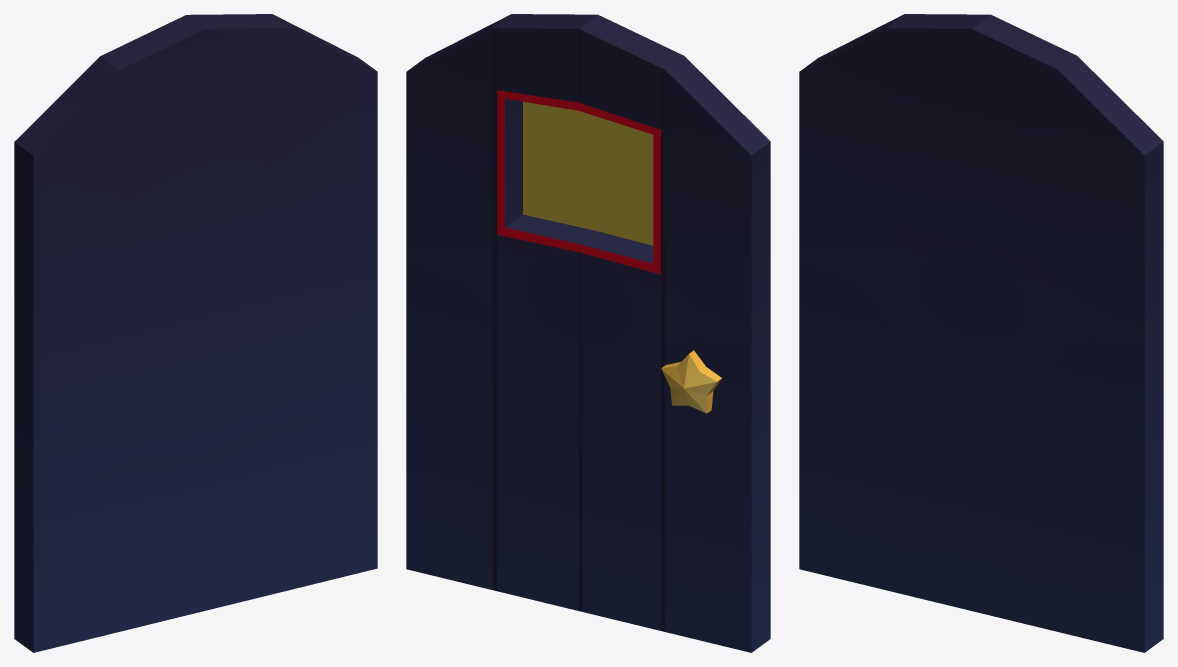
Rendered from Building_Door_Red.fbx.
3 renders of one model, left to right at view 1: azimuth 30°, elevation 25°; view 2: azimuth 150°, elevation 25°; view 3: azimuth 330°, elevation 25°, orthographic.
Parts seen in each view (by area): view 1: Door.001; view 2: Door.001; view 3: Door.001.
Part boxes in pixels (x1,y1,x2,y2): Door.001: (14, 14, 377, 652); Door.001: (406, 14, 770, 652); Door.001: (799, 14, 1163, 652).
Size of the model in its own units: 86.11 by 139 by 16.36.
